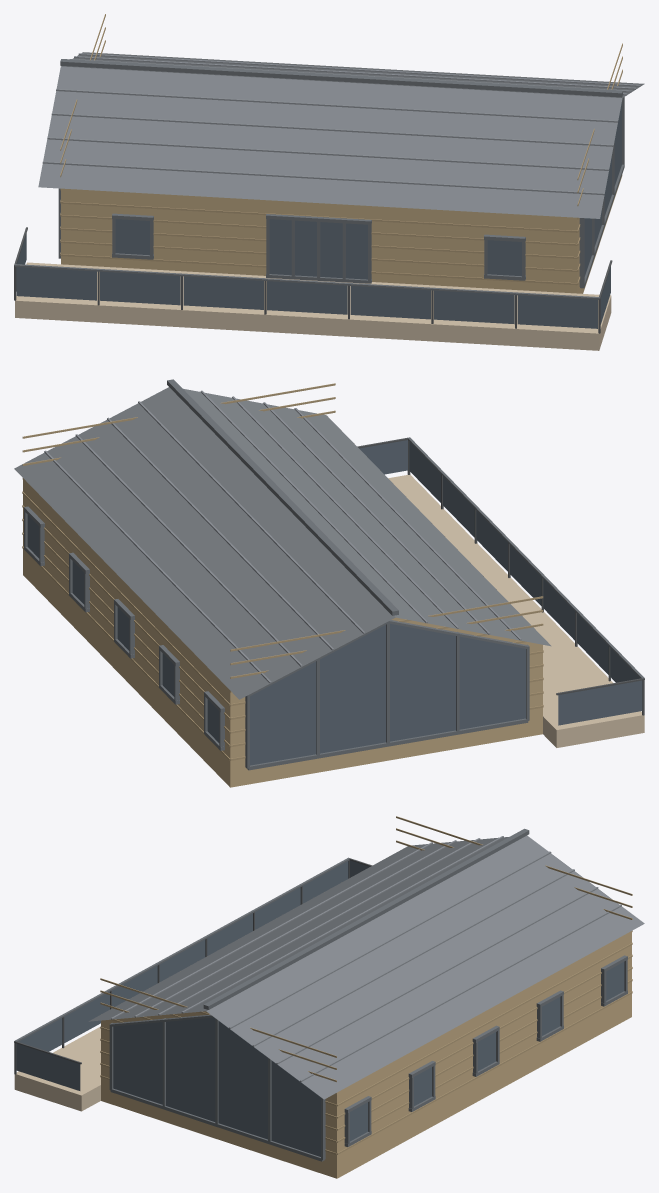
The picture shows the model from 3 angles, top to bottom: view 1: azimuth 30°, elevation 25°; view 2: azimuth 150°, elevation 25°; view 3: azimuth 270°, elevation 25°; orthographic projection. The views are drawn at different scales.
Parts seen in each view (by area): view 1: slate, door_wood, larch, slate_dk, slate_lt, door_wood_p, window_glass_004, window_glass_007, window_glass_001, window_glass_003, window_glass_002, window_glass_005 (+9 smaller); view 2: slate, window_glass_017, door_wood, slate_dk, larch, slate_lt, door_wood_p, window_glass_008, window_glass_009, pipe, window_glass_005, window_glass_006 (+4 smaller); view 3: slate, door_wood, window_glass_016, slate_dk, slate_lt, door_wood_p, larch, window_glass_009, window_glass_006, window_glass_001, window_glass_004, window_glass_002 (+9 smaller).
Part boxes in pixels (x1,y1,x2,y2): slate: (38,52,644,218); door_wood: (61,175,622,293); larch: (15,262,611,350); slate_dk: (15,59,624,299); slate_lt: (42,53,640,195); door_wood_p: (60,14,622,285); window_glass_004: (267,281,347,314); window_glass_007: (517,295,597,328); window_glass_001: (16,267,96,300); window_glass_003: (183,276,263,309); window_glass_002: (100,271,180,305); window_glass_005: (350,286,430,319); slate: (14,387,551,699); window_glass_017: (250,623,525,765); door_wood: (23,443,542,787); slate_dk: (24,379,644,770); larch: (388,475,644,747); slate_lt: (44,390,521,683); door_wood_p: (22,383,543,760); window_glass_008: (558,680,642,725); window_glass_009: (359,440,407,474); pipe: (357,437,644,715); window_glass_005: (476,510,507,571); window_glass_006: (443,476,474,537); slate: (88,835,644,1099); door_wood: (101,931,631,1178); window_glass_016: (113,1017,320,1156); slate_dk: (15,828,627,1161); slate_lt: (111,836,621,1081); door_wood_p: (100,816,632,1154); larch: (14,1027,100,1111); window_glass_009: (16,1043,80,1090); window_glass_006: (64,992,109,1042); window_glass_001: (302,861,348,903); window_glass_004: (159,940,205,981); window_glass_002: (255,887,300,929).
Size of the model in its own units: 18.77 by 4.43 by 17.9.
